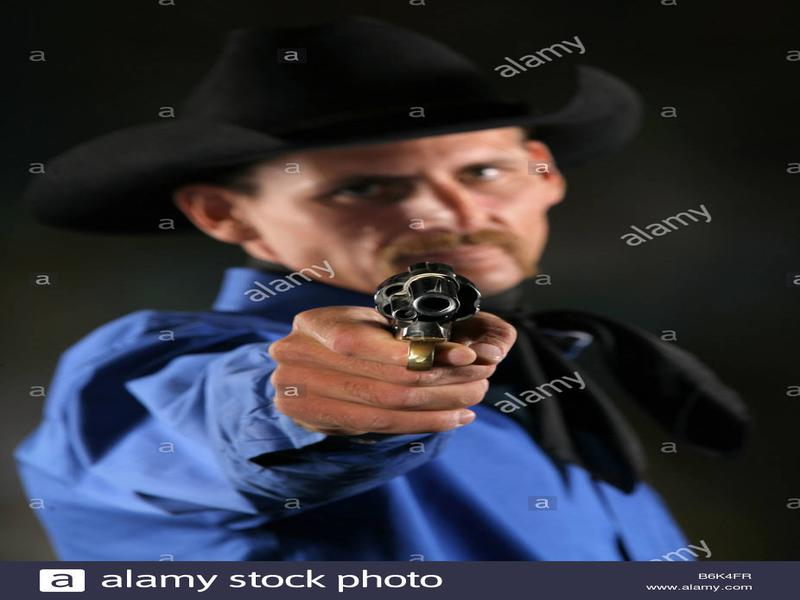Revolver: (365, 255, 487, 382)
